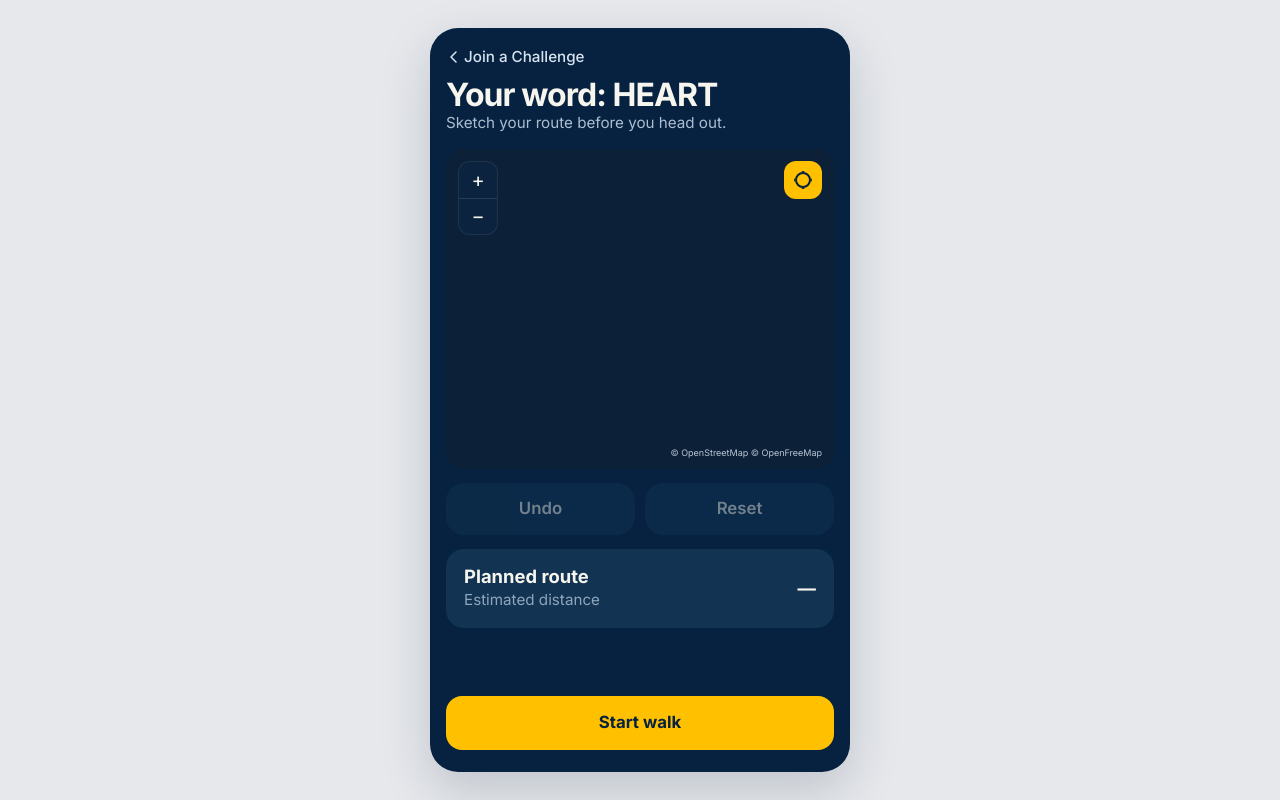
Scenario: PlanRoute › starts the walk from the planned route
The image size is (1280, 800).
Click the button "Start walk".
click(640, 723)  # box [446,696,834,750]
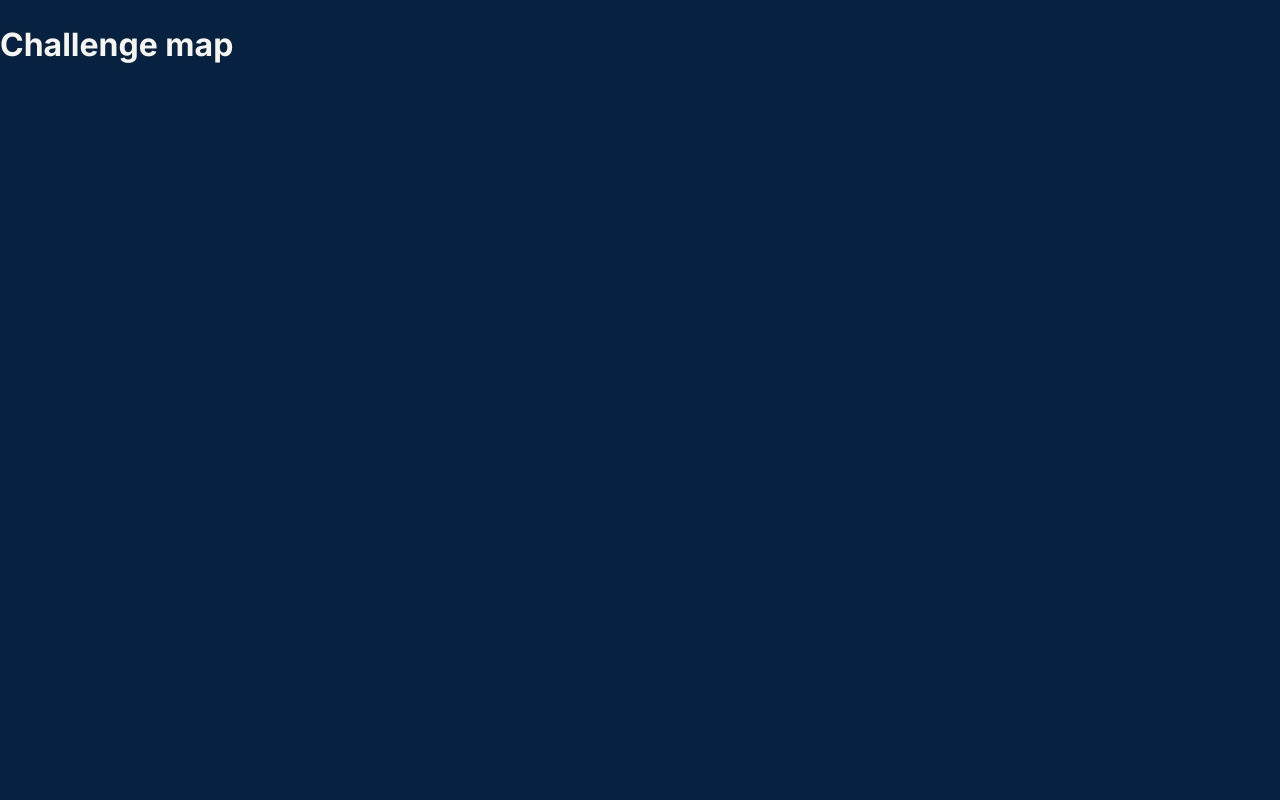
Check: the heading "Challenge map" is shown, box [0,25,233,64]
